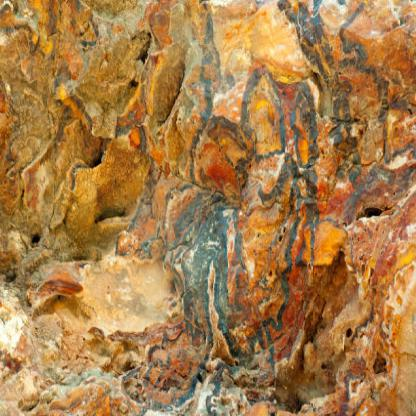Sedimentary_Limestone: (4, 4, 415, 415)
